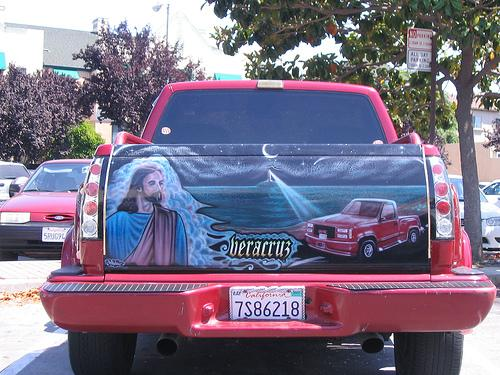truck: (39, 79, 497, 375)
